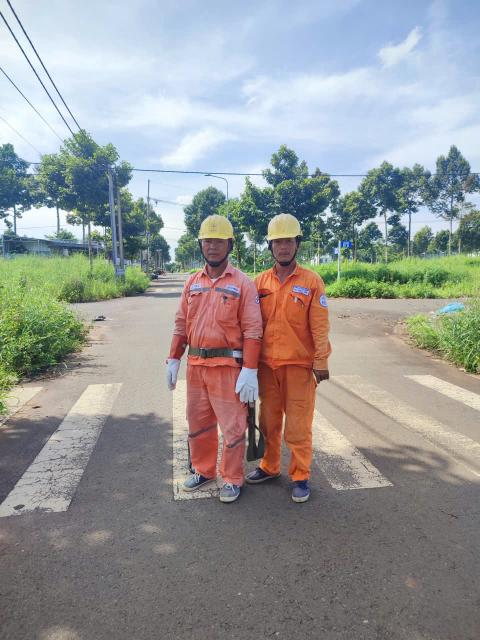gloves: (230, 365, 265, 402), (158, 354, 183, 391)
harness: (177, 339, 245, 364)
helmet: (197, 208, 238, 243), (267, 207, 302, 244)
shoes: (285, 470, 316, 502), (180, 461, 214, 489), (241, 464, 283, 484), (218, 481, 244, 502)
